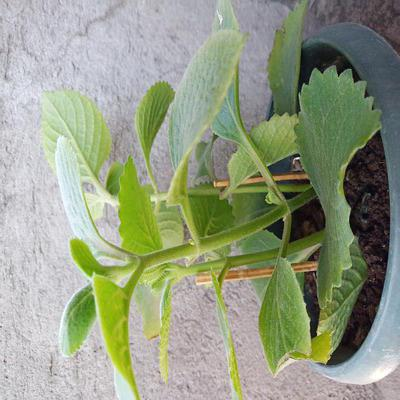Oregano: (47, 91, 366, 371)
